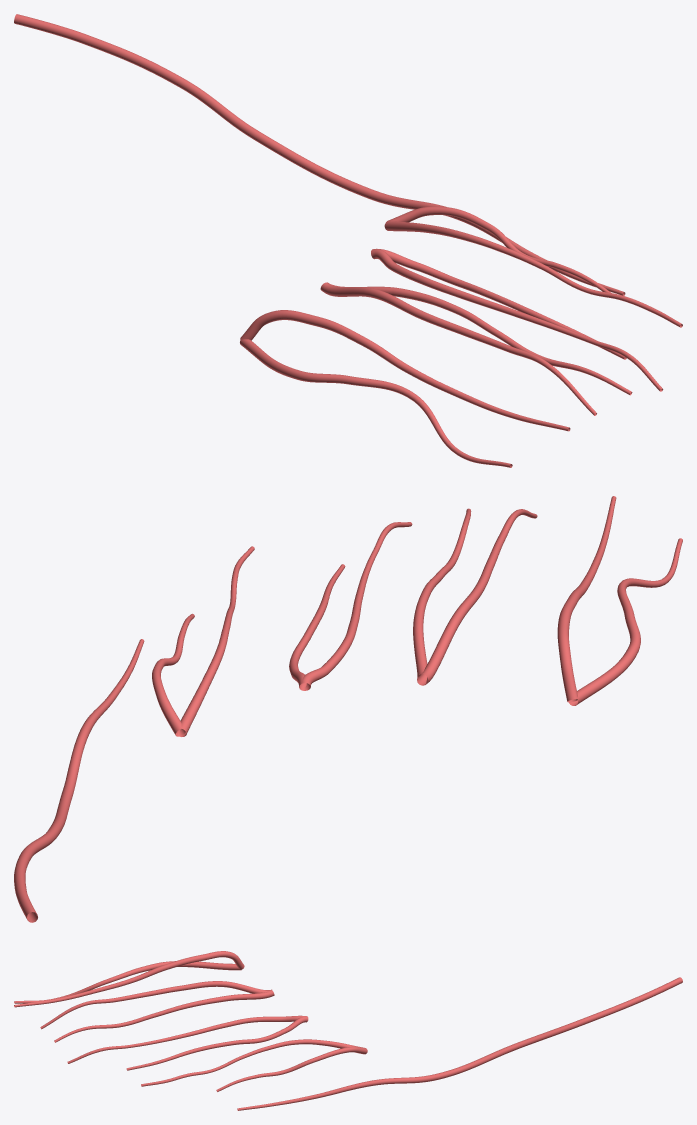
Rendered from Proper_plantar_digital_arteries.l_BezierCurve.325.glb.
3 views of the same model, one above another, from view 1: azimuth 30°, elevation 25°; view 2: azimuth 150°, elevation 25°; view 3: azimuth 270°, elevation 25° (orthographic). The views are drawn at different scales.
Parts seen in each view (by area): view 1: Proper_plantar_digital_arteries.l_BezierCurve.325; view 2: Proper_plantar_digital_arteries.l_BezierCurve.325; view 3: Proper_plantar_digital_arteries.l_BezierCurve.325.
Part boxes in pixels (left/top/right/bottom): Proper_plantar_digital_arteries.l_BezierCurve.325: left=14, top=14, right=682, bottom=467; Proper_plantar_digital_arteries.l_BezierCurve.325: left=14, top=496, right=682, bottom=922; Proper_plantar_digital_arteries.l_BezierCurve.325: left=14, top=951, right=682, bottom=1110.
Size of the model in its own units: 0.0604 by 0.0131 by 0.1436.
